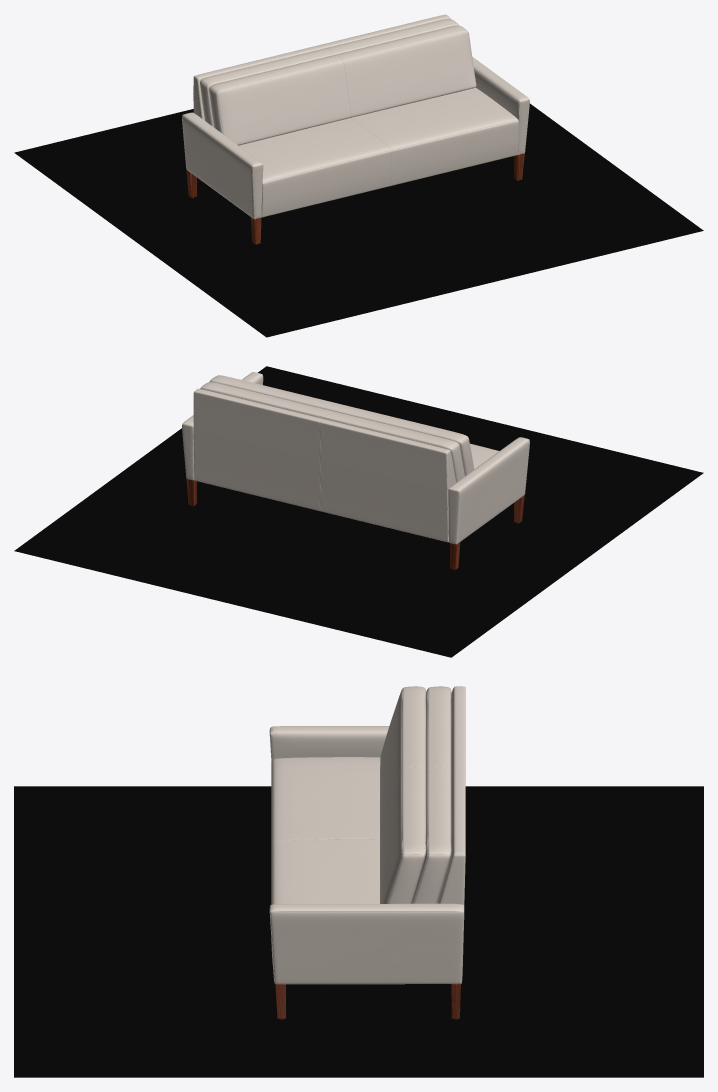
Rendered from herman-miller-sofa.glb.
The picture shows the model from 3 angles, top to bottom: view 1: azimuth 30°, elevation 25°; view 2: azimuth 150°, elevation 25°; view 3: azimuth 270°, elevation 25°; orthographic projection. The views are drawn at different scales.
Visible parts, largest first — view 1: HRM_Brava_Flop_Sofa_BLOB__Ground_plane, HRM_BRAVA_FLOP_SOFA_BACKCUSHION__vcn_mes_000030_000006cf_00, HRM_BRAVA_FLOP_SOFA_SEAT__vcn_mes_000030_000006cd_00, HRM_BRAVA_FLOP_SOFA_ARMS__vcn_mes_000030_000006d0_00, HRM_BRAVA_FLOP_SOFA_BACK__vcn_mes_000030_000006ce_000, HRM_BRAVA_FLOP_SOFA_LEGS__vcn_mes_000030_000006cc_00; view 2: HRM_Brava_Flop_Sofa_BLOB__Ground_plane, HRM_BRAVA_FLOP_SOFA_BACK__vcn_mes_000030_000006ce_000, HRM_BRAVA_FLOP_SOFA_ARMS__vcn_mes_000030_000006d0_00, HRM_BRAVA_FLOP_SOFA_BACKCUSHION__vcn_mes_000030_000006cf_00, HRM_BRAVA_FLOP_SOFA_LEGS__vcn_mes_000030_000006cc_00; view 3: HRM_Brava_Flop_Sofa_BLOB__Ground_plane, HRM_BRAVA_FLOP_SOFA_ARMS__vcn_mes_000030_000006d0_00, HRM_BRAVA_FLOP_SOFA_SEAT__vcn_mes_000030_000006cd_00, HRM_BRAVA_FLOP_SOFA_BACKCUSHION__vcn_mes_000030_000006cf_00, HRM_BRAVA_FLOP_SOFA_BACK__vcn_mes_000030_000006ce_000, HRM_BRAVA_FLOP_SOFA_LEGS__vcn_mes_000030_000006cc_00.
Part boxes in pixels (x1,y1,x2,y2): HRM_Brava_Flop_Sofa_BLOB__Ground_plane: (14,103,703,337); HRM_BRAVA_FLOP_SOFA_BACKCUSHION__vcn_mes_000030_000006cf_00: (200,19,476,145); HRM_BRAVA_FLOP_SOFA_SEAT__vcn_mes_000030_000006cd_00: (239,87,518,217); HRM_BRAVA_FLOP_SOFA_ARMS__vcn_mes_000030_000006d0_00: (182,57,529,219); HRM_BRAVA_FLOP_SOFA_BACK__vcn_mes_000030_000006ce_000: (193,14,450,120); HRM_BRAVA_FLOP_SOFA_LEGS__vcn_mes_000030_000006cc_00: (186,153,524,244); HRM_Brava_Flop_Sofa_BLOB__Ground_plane: (14,366,703,657); HRM_BRAVA_FLOP_SOFA_BACK__vcn_mes_000030_000006ce_000: (193,388,456,542); HRM_BRAVA_FLOP_SOFA_ARMS__vcn_mes_000030_000006d0_00: (182,372,529,544); HRM_BRAVA_FLOP_SOFA_BACKCUSHION__vcn_mes_000030_000006cf_00: (200,375,474,482); HRM_BRAVA_FLOP_SOFA_LEGS__vcn_mes_000030_000006cc_00: (186,478,524,570); HRM_Brava_Flop_Sofa_BLOB__Ground_plane: (14,786,703,1077); HRM_BRAVA_FLOP_SOFA_ARMS__vcn_mes_000030_000006d0_00: (269,726,464,984); HRM_BRAVA_FLOP_SOFA_SEAT__vcn_mes_000030_000006cd_00: (271,757,437,965); HRM_BRAVA_FLOP_SOFA_BACKCUSHION__vcn_mes_000030_000006cf_00: (380,686,451,903); HRM_BRAVA_FLOP_SOFA_BACK__vcn_mes_000030_000006ce_000: (438,686,465,905); HRM_BRAVA_FLOP_SOFA_LEGS__vcn_mes_000030_000006cc_00: (275,984,460,1019).
Bounding box in the file's own units: 3.11 × 0.8179 × 3.11.
11 materials, 11 textured.
